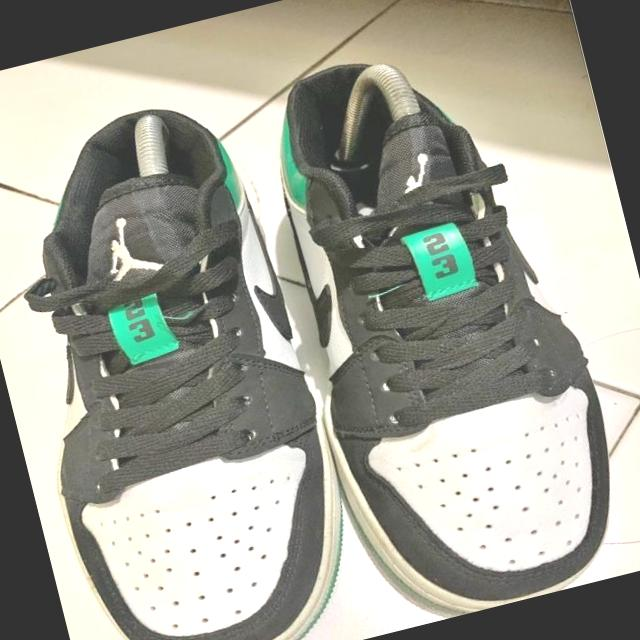nike_fake_jordan: (241, 17, 640, 635), (0, 73, 416, 640)
